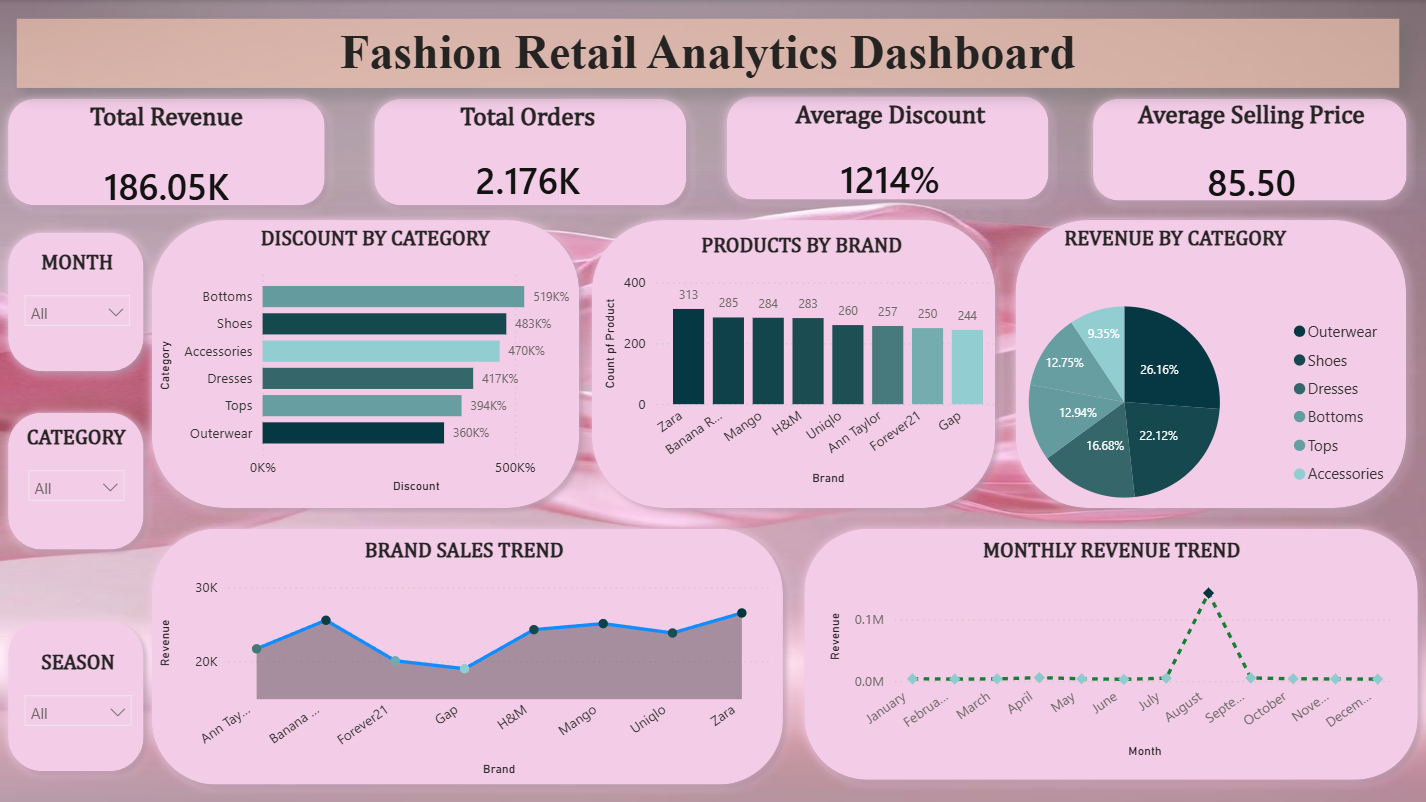

This screenshot's page, from the dashboard's own definition file:
{"tool":"powerbi","page":{"name":"Page 1","canvas":[1280,720],"ordinal":0},"visuals":[{"type":"shape","box":[128.6,187.1,398.6,274.3],"z":0},{"type":"shape","box":[128.6,461.4,580,245.7],"z":1000},{"type":"shape","box":[708.6,461.4,564.3,241.4],"z":2000},{"type":"shape","box":[520,187.1,377.1,274.3],"z":3000},{"type":"shape","box":[897.1,187.1,365.7,274.3],"z":4000},{"type":"shape","box":[965.7,78.6,297.1,108.6],"z":5000},{"type":"shape","box":[640,77.1,304.3,110],"z":6000},{"type":"shape","box":[325.7,78.6,295.7,112.9],"z":7000},{"type":"shape","box":[0,78.6,300,112.9],"z":8000},{"type":"pieChart","title":"REVENUE BY CATEGORY","fields":{"Y":["Sum(fashion_cleaned (2).current_price)"],"Category":["fashion_cleaned (2).category"]},"box":[848.6,202.9,400,281.4],"z":9000},{"type":"columnChart","title":"PRODUCTS BY BRAND","fields":{"Category":["fashion_cleaned (2).brand"],"Y":["CountNonNull(fashion_cleaned (2).product_id)"]},"box":[534.3,208.6,362.9,228.6],"z":10000},{"type":"barChart","title":"DISCOUNT BY CATEGORY","fields":{"Category":["fashion_cleaned (2).category"],"Y":["Sum(fashion_cleaned (2).markdown_percentage)"]},"box":[138.6,202.9,395.7,241.4],"z":11000},{"type":"lineChart","title":"MONTHLY REVENUE TREND","fields":{"Y":["Sum(fashion_cleaned (2).current_price)"],"Category":["fashion_cleaned (2).purchase_date.Variation.Date Hierarchy.Month"]},"box":[734.3,480,514.3,200],"z":12000},{"type":"lineChart","title":"BRAND SALES TREND","fields":{"Category":["fashion_cleaned (2).brand"],"Y":["Sum(fashion_cleaned (2).current_price)"]},"box":[138.6,480,554.3,215.7],"z":13000},{"type":"shape","box":[0,198.6,138.6,141.4],"z":14000},{"type":"slicer","title":"MONTH","fields":{"Values":["fashion_cleaned (2).Month"]},"box":[12.9,224.3,114.3,75.7],"z":15000},{"type":"shape","box":[0,358.6,138.6,140],"z":16000},{"type":"slicer","title":"CATEGORY","fields":{"Values":["fashion_cleaned (2).category"]},"box":[17.1,379.1,105.7,98.6],"z":17000},{"type":"shape","box":[0,544.3,138.6,151.4],"z":18000},{"type":"slicer","title":"SEASON","fields":{"Values":["fashion_cleaned (2).season"]},"box":[12.9,580,115.7,98.6],"z":19000},{"type":"cardVisual","title":"Total Revenue","fields":{"Data":["Sum(fashion_cleaned (2).current_price)"]},"box":[0,92.9,300,110],"z":20000},{"type":"cardVisual","title":"Total Orders","fields":{"Data":["CountNonNull(fashion_cleaned (2).product_id)"]},"box":[321.4,92.9,300,98.6],"z":21000},{"type":"cardVisual","title":"Average Discount","fields":{"Data":["Avg(fashion_cleaned (2).markdown_percentage)"]},"box":[644.3,90,300,101.4],"z":22000},{"type":"cardVisual","title":"Average Selling Price","fields":{"Data":["Avg(fashion_cleaned (2).current_price)"]},"box":[965.7,90,300,105.7],"z":23000},{"type":"textbox","box":[17.1,17.1,1231.4,61.4],"z":24000}]}

Visuals, with their boxes in screenshot pixels (x1, y1, x2, y2), scaled from the page's 1280x720 canvas onto the 1426x802 screenshot:
shape: bbox=(143, 208, 587, 514)
shape: bbox=(143, 514, 789, 788)
shape: bbox=(789, 514, 1418, 783)
shape: bbox=(579, 208, 999, 514)
shape: bbox=(999, 208, 1407, 514)
shape: bbox=(1076, 88, 1407, 209)
shape: bbox=(713, 86, 1052, 208)
shape: bbox=(363, 88, 692, 213)
shape: bbox=(0, 88, 334, 213)
"REVENUE BY CATEGORY" pieChart: bbox=(945, 226, 1391, 539)
"PRODUCTS BY BRAND" columnChart: bbox=(595, 232, 1000, 487)
"DISCOUNT BY CATEGORY" barChart: bbox=(154, 226, 595, 495)
"MONTHLY REVENUE TREND" lineChart: bbox=(818, 535, 1391, 757)
"BRAND SALES TREND" lineChart: bbox=(154, 535, 772, 775)
shape: bbox=(0, 221, 154, 379)
"MONTH" slicer: bbox=(14, 250, 142, 334)
shape: bbox=(0, 399, 154, 555)
"CATEGORY" slicer: bbox=(19, 422, 137, 532)
shape: bbox=(0, 606, 154, 775)
"SEASON" slicer: bbox=(14, 646, 143, 756)
"Total Revenue" cardVisual: bbox=(0, 103, 334, 226)
"Total Orders" cardVisual: bbox=(358, 103, 692, 213)
"Average Discount" cardVisual: bbox=(718, 100, 1052, 213)
"Average Selling Price" cardVisual: bbox=(1076, 100, 1410, 218)
textbox: bbox=(19, 19, 1391, 87)
